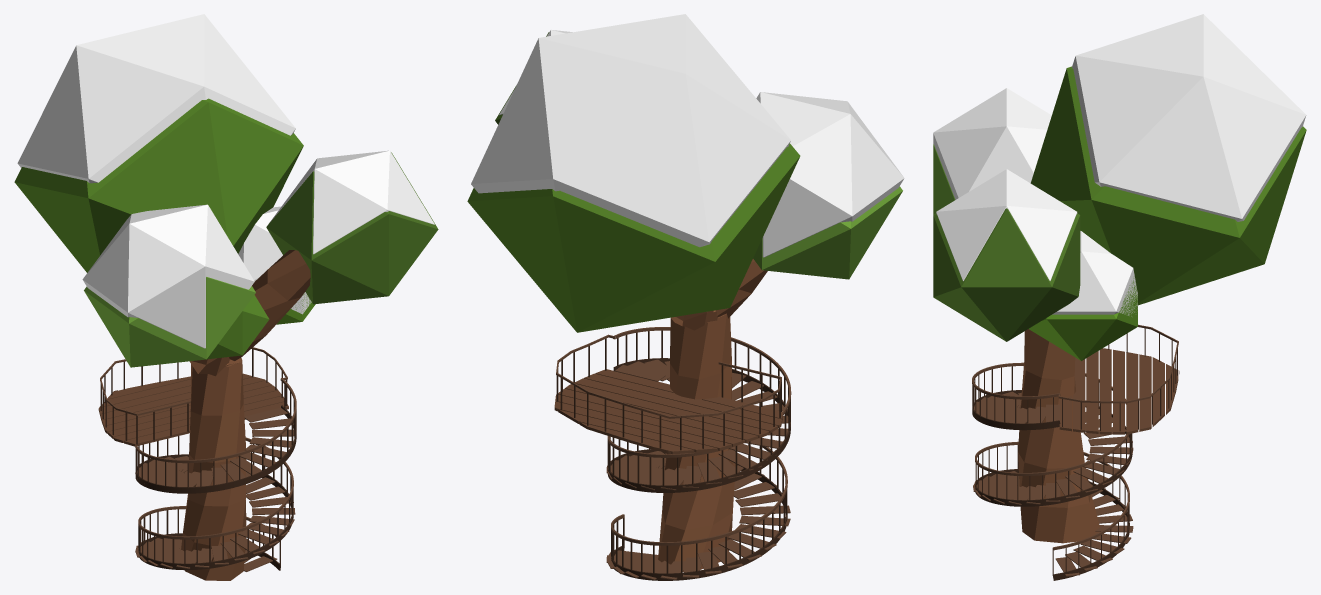
Rendered from TreeFBX.fbx.
The picture shows the model from 3 angles, left to right: view 1: azimuth 30°, elevation 25°; view 2: azimuth 150°, elevation 25°; view 3: azimuth 270°, elevation 25°; orthographic projection. The views are drawn at different scales.
Visible parts, largest first — view 1: Platonic_7, Platonic_11, Platonic_5, Platonic_10, Trunk, Platonic_6, Platonic_9, Trunk_1, Bannister, Platonic_8, Hand_Rail, Platonic_3 (+9 smaller); view 2: Platonic_7, Platonic_11, Platonic_5, Trunk, Platonic_9, Bannister, Hand_Rail, Cube_9_3, Cube_10_3, Cube_8_3, Cube_6_3, Cube_7_3 (+7 smaller); view 3: Platonic_7, Platonic_11, Platonic_10, Trunk, Platonic_5, Platonic_6, Platonic_8, Platonic_4, Bannister, Hand_Rail, Cube_8_3, Cube_9_3 (+7 smaller).
Boxes of the visible parts, x1,y1,x2,y2 form: Platonic_7: (17,14,295,183); Platonic_11: (14,98,303,272); Platonic_5: (82,204,254,348); Platonic_10: (266,152,438,304); Trunk: (181,358,246,580); Platonic_6: (270,150,434,254); Platonic_9: (84,277,255,367); Trunk_1: (229,250,310,360); Bannister: (135,405,296,570); Platonic_8: (238,206,311,314); Hand_Rail: (135,378,296,539); Platonic_3: (207,295,269,359); Platonic_7: (471,14,790,247); Platonic_11: (467,143,800,332); Platonic_5: (756,92,904,257); Trunk: (658,313,735,571); Platonic_9: (753,186,902,279); Bannister: (607,358,790,580); Hand_Rail: (607,327,791,545); Cube_9_3: (575,378,777,433); Cube_10_3: (584,373,781,427); Cube_8_3: (565,384,768,437); Cube_6_3: (555,394,744,446); Cube_7_3: (558,388,757,442); Platonic_7: (1072,14,1306,221); Platonic_11: (1030,66,1306,305); Platonic_10: (933,208,1080,341); Trunk: (1018,329,1099,543); Platonic_5: (933,88,1051,199); Platonic_6: (936,169,1077,281); Platonic_8: (1052,231,1137,316); Platonic_4: (1029,276,1137,360); Bannister: (972,390,1132,580); Hand_Rail: (972,362,1129,550); Cube_8_3: (1099,348,1111,431); Cube_9_3: (1086,351,1098,431).
Bounding box in the file's own units: 1353 × 2090 × 1405.
